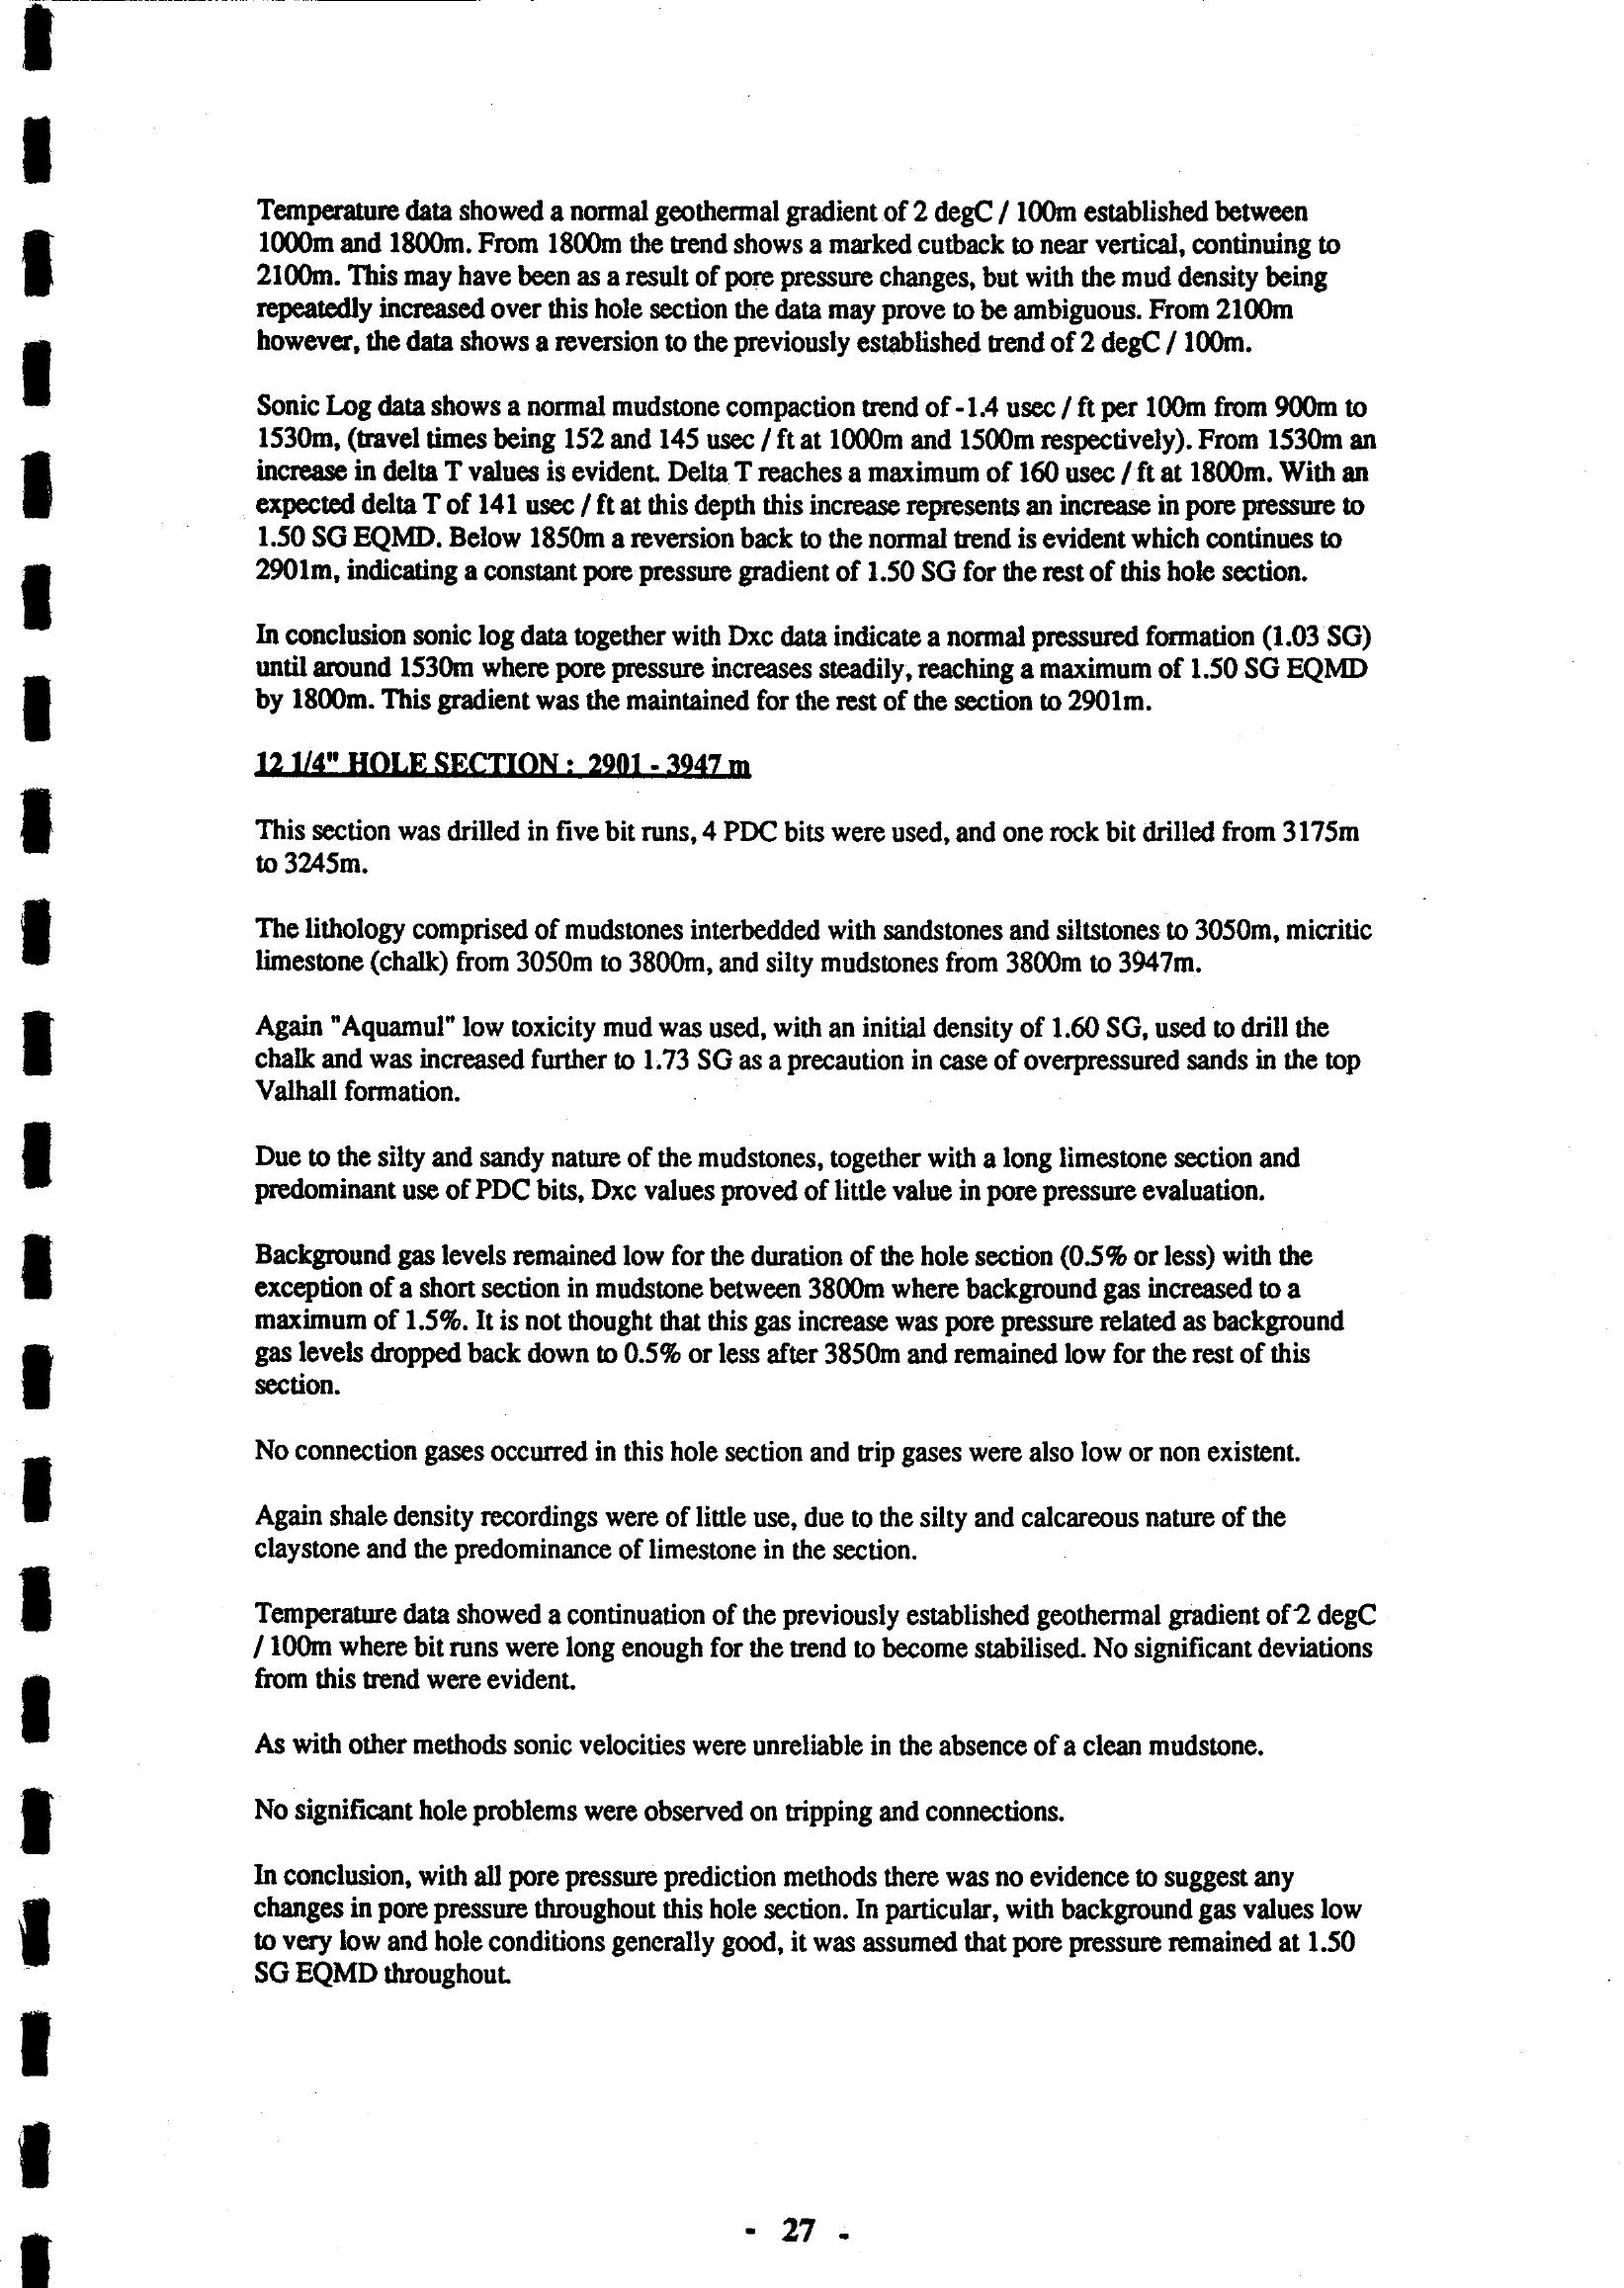text: (209, 172, 1415, 2033)
